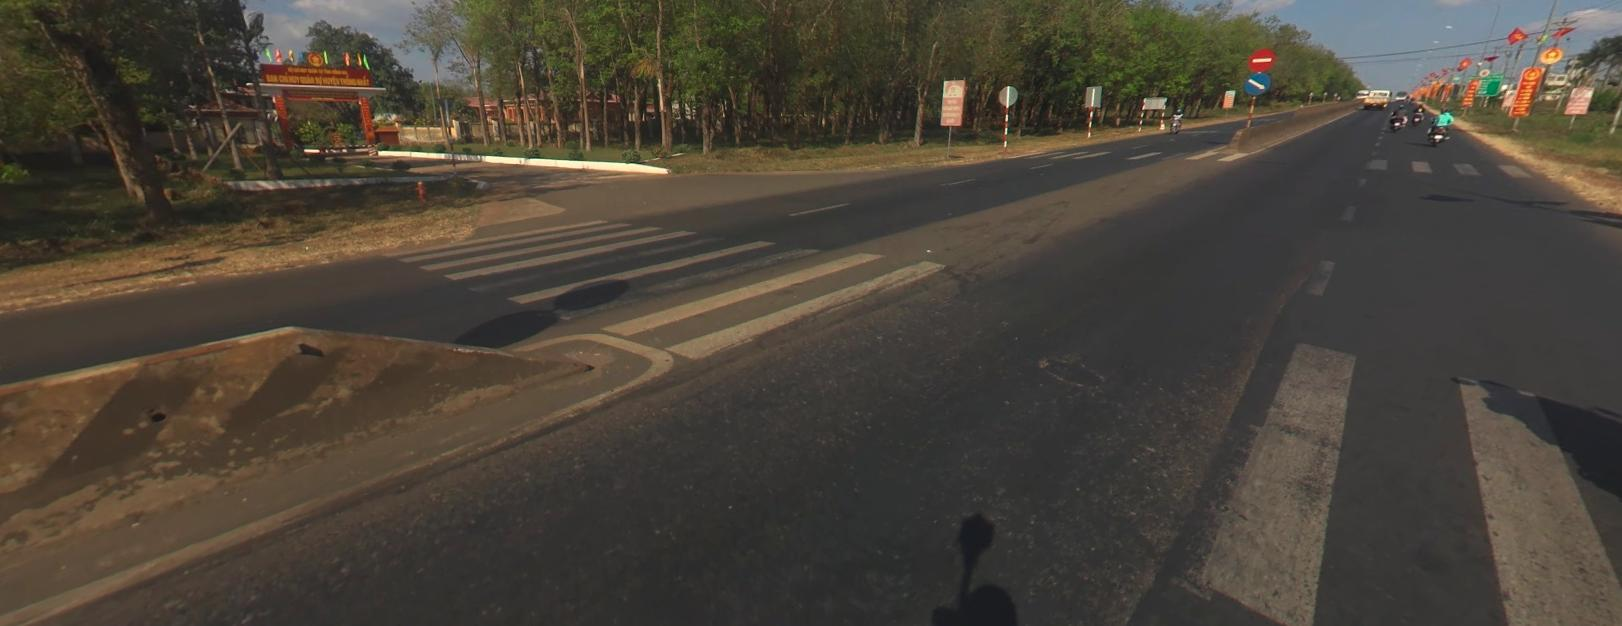Cam nguoc chieu: (1248, 48, 1274, 71)
Hieu lenh: (1244, 72, 1271, 95)
